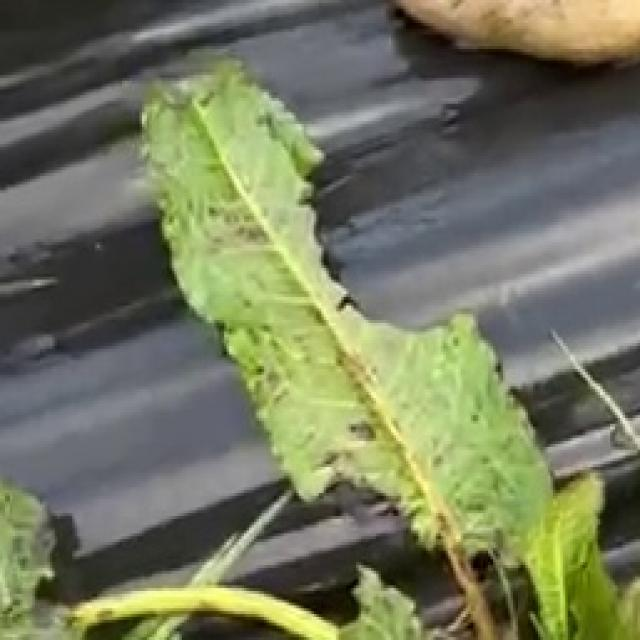organic waste: (56, 41, 640, 639)
